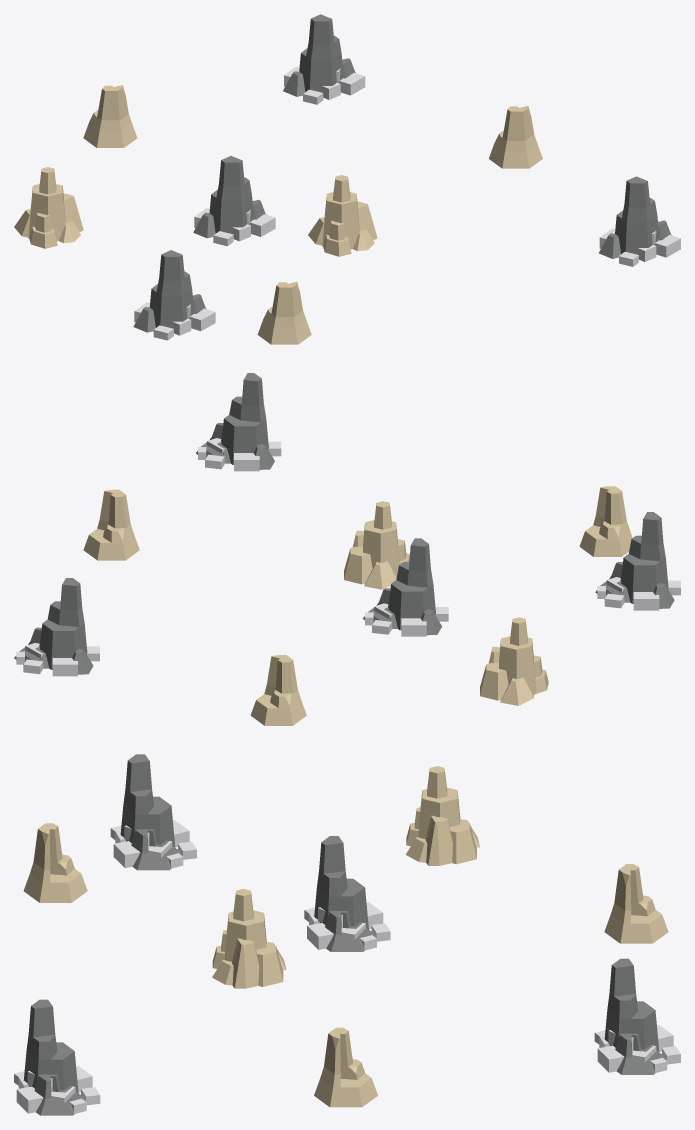
The model's file is gisement_de_minerais.glb.
3 renders of one model, top to bottom at view 1: azimuth 30°, elevation 25°; view 2: azimuth 150°, elevation 25°; view 3: azimuth 270°, elevation 25°, orthographic. The views are drawn at different scales.
Visible parts, largest first — view 1: mergedBlocks(Clone); view 2: mergedBlocks(Clone); view 3: mergedBlocks(Clone).
Part boxes in pixels (<box>): mergedBlocks(Clone): <box>14,14,680,344</box>; mergedBlocks(Clone): <box>14,373,680,725</box>; mergedBlocks(Clone): <box>14,754,680,1115</box>.
Size of the model in its own units: 6.98 by 0.9959 by 6.89.
Materials: 1 (1 with a texture image).
